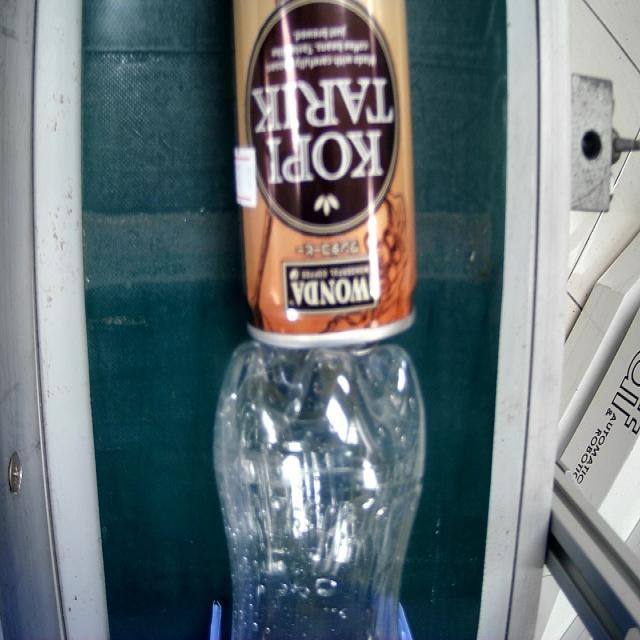Pet_Bottle: (212, 346, 425, 640)
can: (229, 0, 416, 330)
